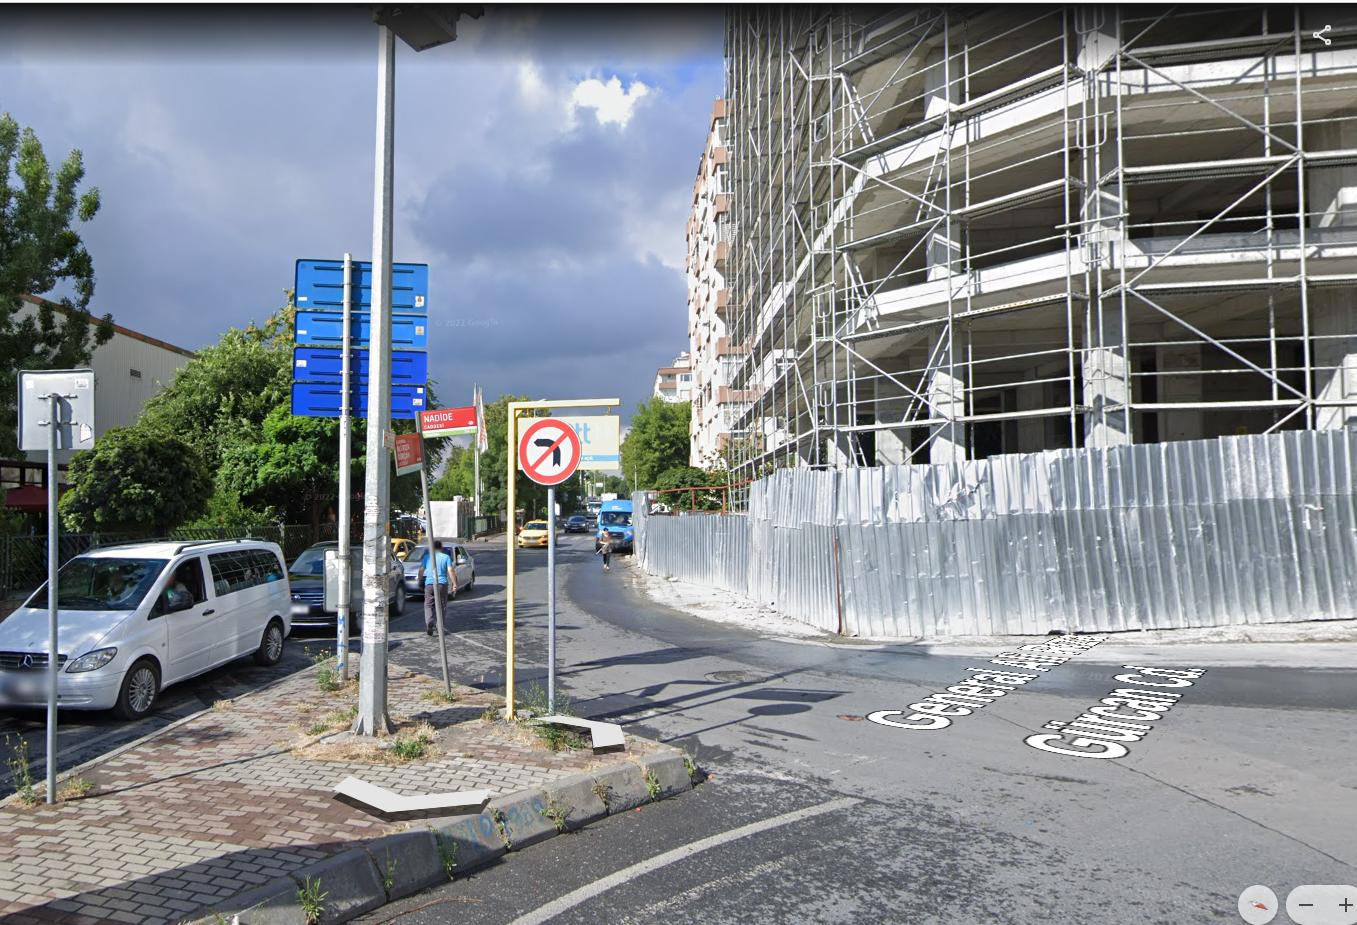leftturnsareforbidden: (520, 421, 578, 478)
